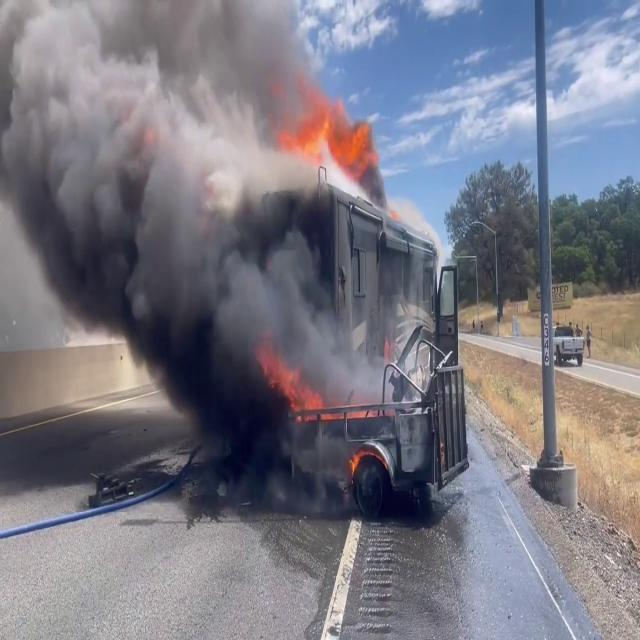Fire: (290, 96, 384, 188), (264, 346, 328, 424)
Smoke: (0, 0, 342, 460)
